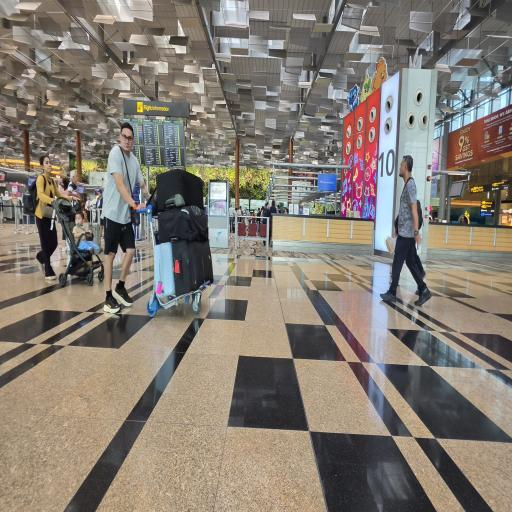person_left: (380, 142, 429, 309)
person_right: (31, 146, 62, 288), (66, 162, 82, 210)
person_with_luggage_right: (102, 118, 215, 319)
